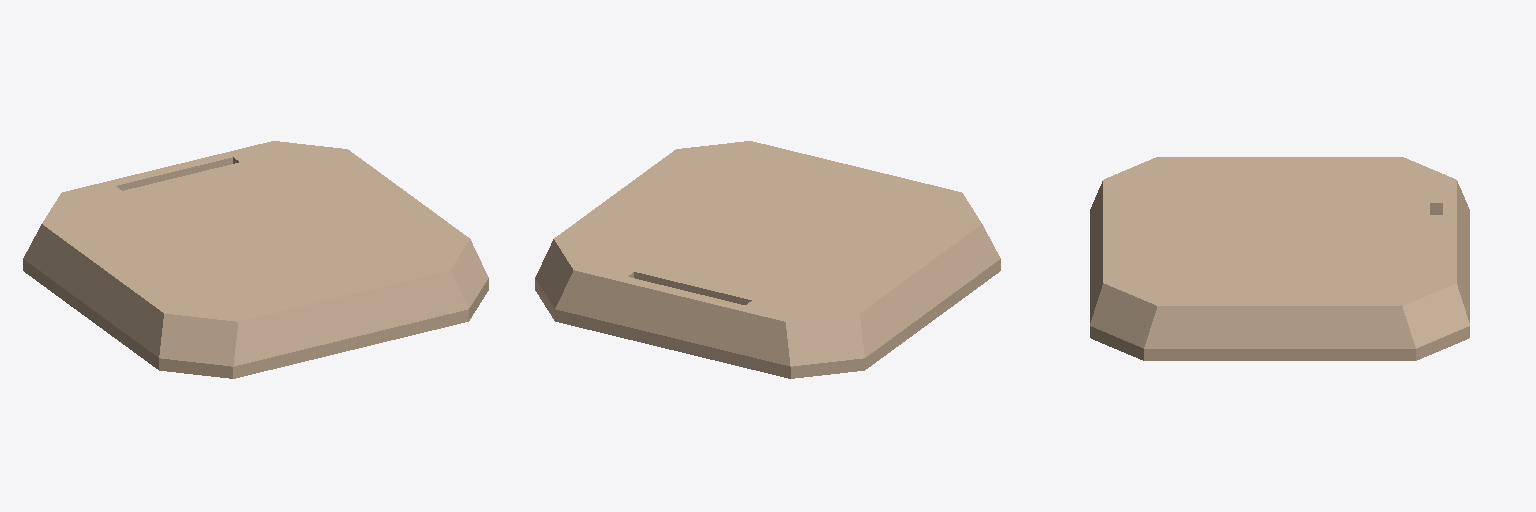
File: silo_hatch_large.obj
The picture shows the model from 3 angles: view 1: azimuth 30°, elevation 25°; view 2: azimuth 150°, elevation 25°; view 3: azimuth 270°, elevation 25°; orthographic projection.
Parts seen in each view (by area): view 1: Frame, Hatch; view 2: Frame, Hatch; view 3: Frame, Hatch.
Boxes of the visible parts, x1,y1,x2,y2 form: Frame: [23, 141, 488, 378]; Hatch: [79, 157, 432, 305]; Frame: [535, 141, 1000, 378]; Hatch: [591, 157, 944, 305]; Frame: [1090, 157, 1469, 360]; Hatch: [1130, 168, 1442, 294].
Bounding box in the file's own units: 7 × 1 × 7.